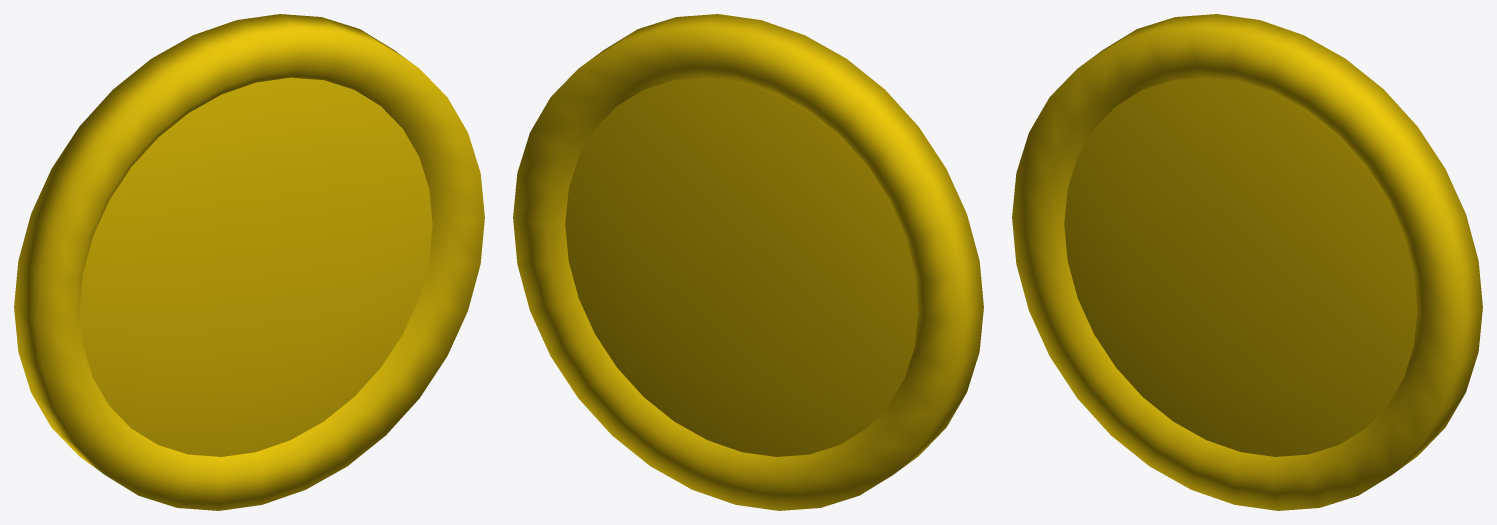
Rendered from Coin.fbx.
The picture shows the model from 3 angles, left to right: view 1: azimuth 30°, elevation 25°; view 2: azimuth 150°, elevation 25°; view 3: azimuth 330°, elevation 25°; orthographic projection.
Visible parts, largest first — view 1: Coin; view 2: Coin; view 3: Coin.
Boxes of the visible parts, bbox=[...] form: Coin: bbox=[14, 14, 484, 510]; Coin: bbox=[513, 14, 983, 510]; Coin: bbox=[1012, 14, 1482, 510].
Bounding box in the file's own units: 60 × 60 × 6.13.
